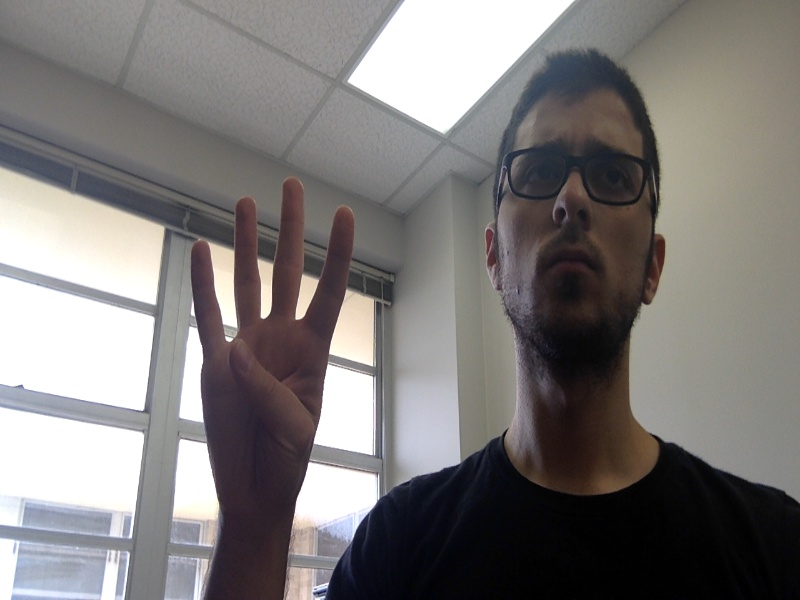4-hand: (191, 181, 354, 517)
